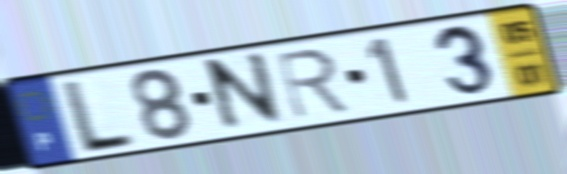1: (363, 34, 413, 107)
3: (432, 21, 503, 101)
8: (128, 65, 195, 144)
L: (60, 76, 138, 158)
N: (204, 48, 287, 138)
R: (271, 45, 354, 123)
